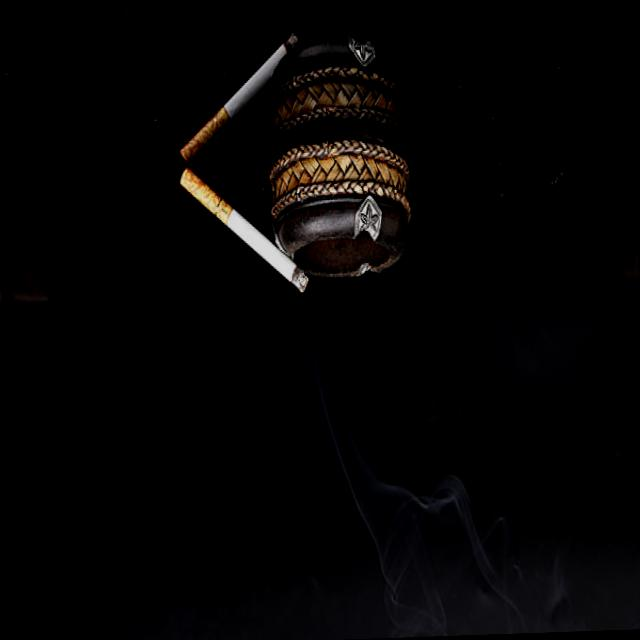smoke: (180, 154, 308, 300)
